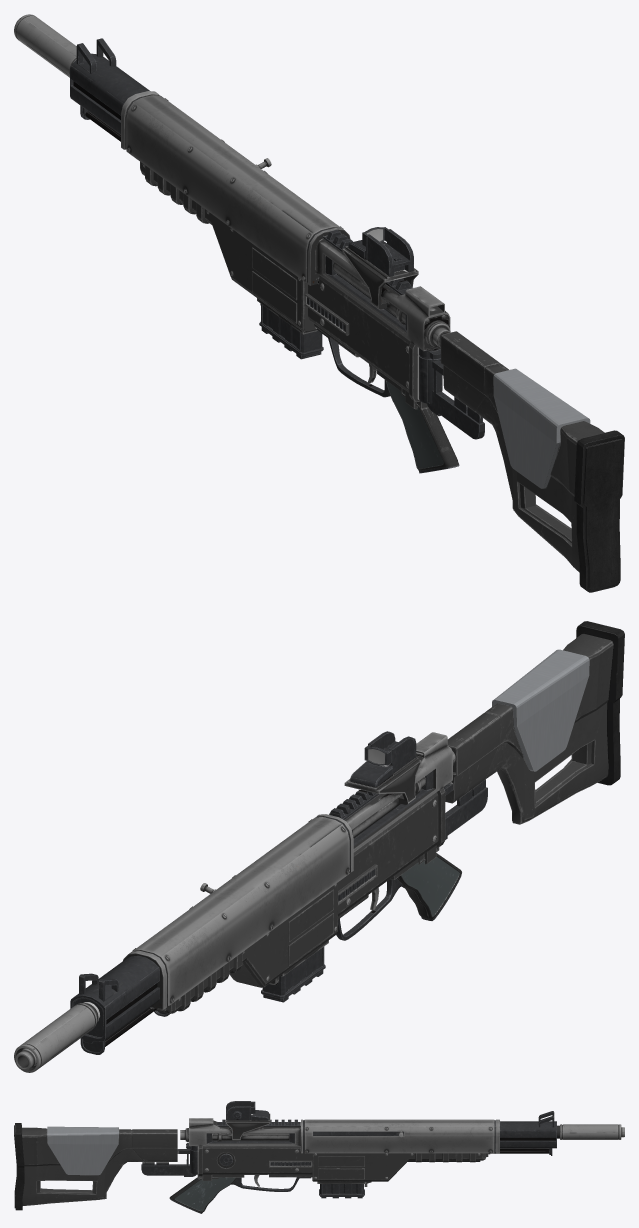
File: carbine rifle.glb
The picture shows the model from 3 angles, top to bottom: view 1: azimuth 30°, elevation 25°; view 2: azimuth 150°, elevation 25°; view 3: azimuth 270°, elevation 25°; orthographic projection. The views are drawn at different scales.
Visible parts, largest first — view 1: sci_fi_carbine_final; view 2: sci_fi_carbine_final; view 3: sci_fi_carbine_final.
Boxes of the visible parts, x1=… form: sci_fi_carbine_final: x1=14, y1=14, x2=624, y2=592; sci_fi_carbine_final: x1=14, y1=621, x2=624, y2=1072; sci_fi_carbine_final: x1=14, y1=1101, x2=624, y2=1213.
Bounding box in the file's own units: 0.2644 × 0.9258 × 4.7.
Materials: 2 (2 with a texture image).
